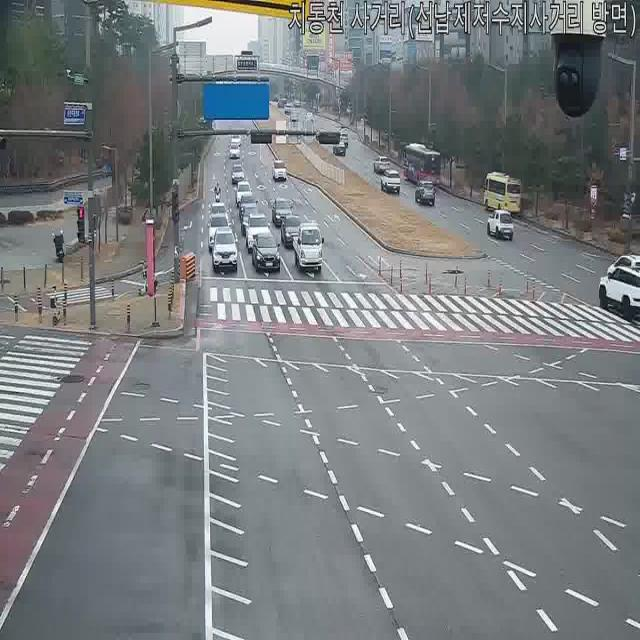Bus: (482, 172, 524, 215), (402, 142, 442, 186)
Car: (597, 257, 640, 319), (482, 172, 524, 215), (210, 228, 238, 274), (251, 233, 281, 274), (244, 213, 272, 252), (207, 214, 232, 251), (487, 208, 514, 241), (281, 215, 306, 249), (271, 198, 294, 228), (208, 202, 230, 230), (240, 207, 262, 235), (238, 193, 258, 221), (415, 181, 436, 206), (381, 169, 401, 195), (235, 180, 253, 208), (230, 162, 246, 185), (272, 160, 288, 182), (373, 155, 391, 174), (228, 141, 241, 160), (333, 141, 345, 157), (338, 131, 349, 147), (304, 112, 314, 123), (290, 110, 298, 123), (277, 98, 287, 108)
Motorcycle: (214, 181, 222, 206)
Truck: (294, 221, 324, 273), (228, 138, 242, 160)
